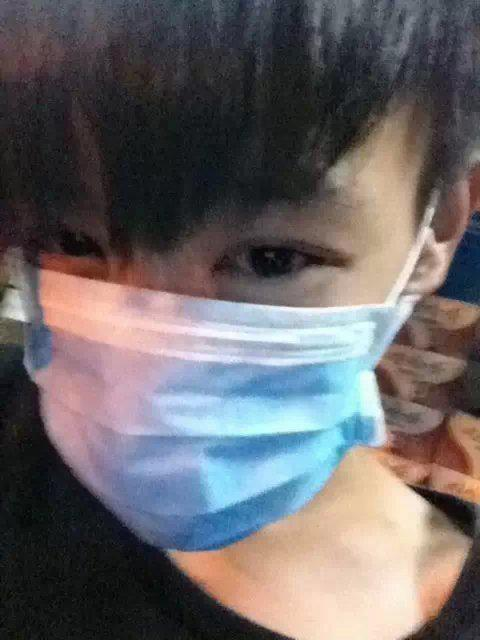OK: (8, 141, 415, 548)
